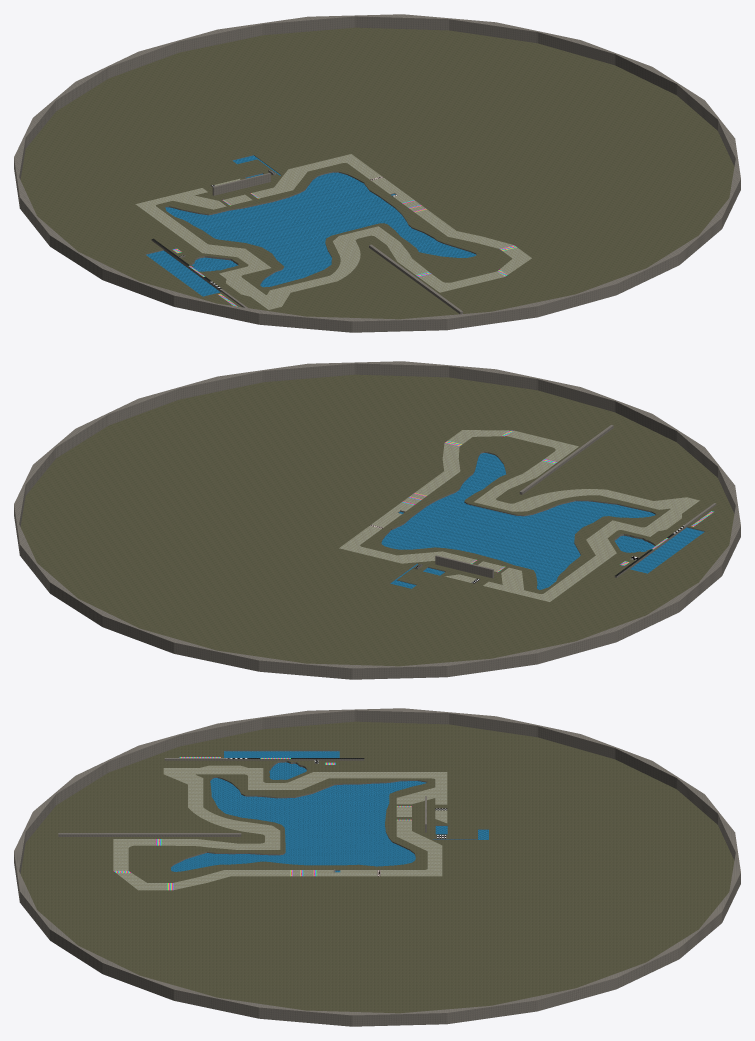
The picture shows the model from 3 angles, top to bottom: view 1: azimuth 30°, elevation 25°; view 2: azimuth 150°, elevation 25°; view 3: azimuth 270°, elevation 25°; orthographic projection.
Visible parts, largest first — view 1: Lost_Gardens_v1_1-SKP--bcwii_offroad.001, Lost_Gardens_v1_1-SKP--airship_road.001, Lost_Gardens_v1_1-SKP--water_3.001, Lost_Gardens_v1_1-SKP--garden_rock_road.001; view 2: Lost_Gardens_v1_1-SKP--bcwii_offroad.001, Lost_Gardens_v1_1-SKP--airship_road.001, Lost_Gardens_v1_1-SKP--water_3.001, Lost_Gardens_v1_1-SKP--garden_rock_road.001; view 3: Lost_Gardens_v1_1-SKP--bcwii_offroad.001, Lost_Gardens_v1_1-SKP--airship_road.001, Lost_Gardens_v1_1-SKP--water_3.001, Lost_Gardens_v1_1-SKP--garden_rock_road.001.
Part boxes in pixels (x1=…): Lost_Gardens_v1_1-SKP--bcwii_offroad.001: x1=20, y1=27, x2=734, y2=319; Lost_Gardens_v1_1-SKP--airship_road.001: x1=14, y1=14, x2=740, y2=332; Lost_Gardens_v1_1-SKP--water_3.001: x1=146, y1=155, x2=476, y2=296; Lost_Gardens_v1_1-SKP--garden_rock_road.001: x1=135, y1=154, x2=531, y2=309; Lost_Gardens_v1_1-SKP--bcwii_offroad.001: x1=20, y1=374, x2=734, y2=666; Lost_Gardens_v1_1-SKP--airship_road.001: x1=14, y1=361, x2=740, y2=679; Lost_Gardens_v1_1-SKP--water_3.001: x1=381, y1=453, x2=704, y2=589; Lost_Gardens_v1_1-SKP--garden_rock_road.001: x1=339, y1=430, x2=699, y2=601; Lost_Gardens_v1_1-SKP--bcwii_offroad.001: x1=20, y1=721, x2=734, y2=1013; Lost_Gardens_v1_1-SKP--airship_road.001: x1=14, y1=708, x2=740, y2=1026; Lost_Gardens_v1_1-SKP--water_3.001: x1=171, y1=751, x2=488, y2=872; Lost_Gardens_v1_1-SKP--garden_rock_road.001: x1=113, y1=765, x2=447, y2=890.
Bounding box in the file's own units: 190270 × 3747 × 190270.
9 materials, 9 textured.
